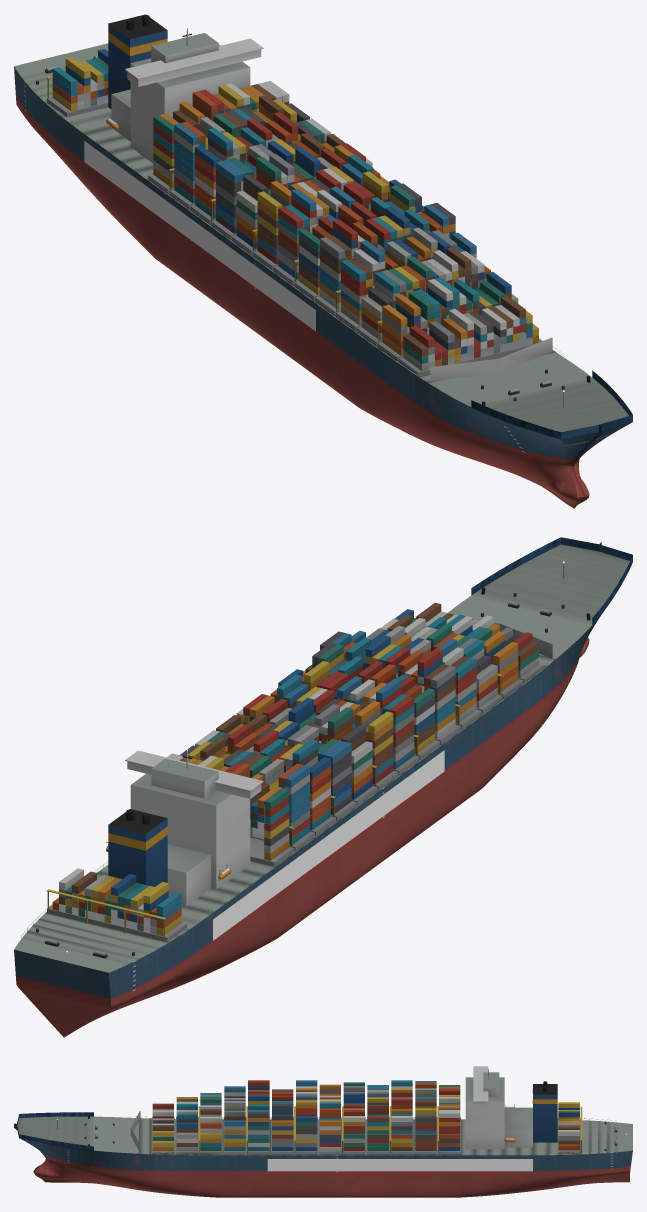
Rendered from container.glb.
The picture shows the model from 3 angles, top to bottom: view 1: azimuth 30°, elevation 25°; view 2: azimuth 150°, elevation 25°; view 3: azimuth 270°, elevation 25°; orthographic projection. The views are drawn at different scales.
Visible parts, largest first — view 1: trim, rumpf, name-1, rund; view 2: trim, rumpf, name-1, rund; view 3: trim, rumpf, name1, rund.
Part boxes in pixels (x1,y1,x2,y2): trim: (14, 14, 632, 439); rumpf: (14, 67, 631, 508); name-1: (84, 141, 315, 331); rund: (21, 15, 590, 407); trim: (14, 537, 632, 972); rumpf: (14, 613, 602, 1037); name-1: (213, 750, 444, 940); rund: (21, 563, 590, 958); trim: (14, 1066, 632, 1155); rumpf: (14, 1128, 632, 1197); name1: (267, 1159, 532, 1171); rund: (57, 1069, 617, 1154).
Size of the model in its own units: 48.13 by 70.73 by 350.
8 materials, 1 textured.
